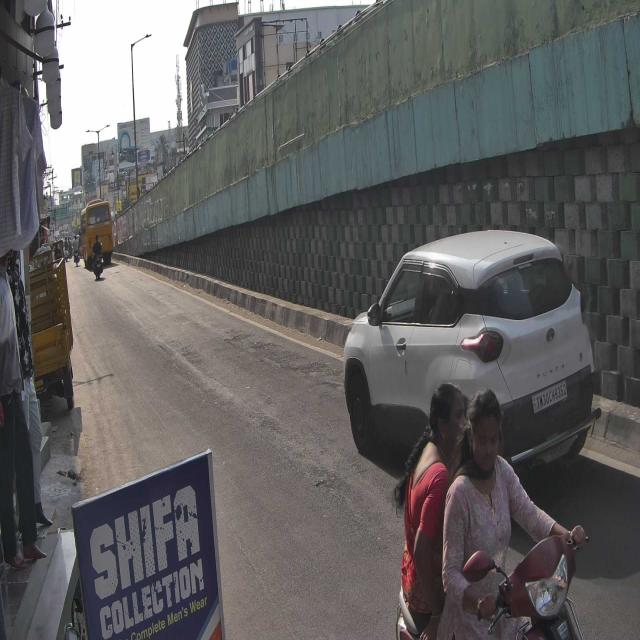double_rider: (390, 378, 589, 640)
